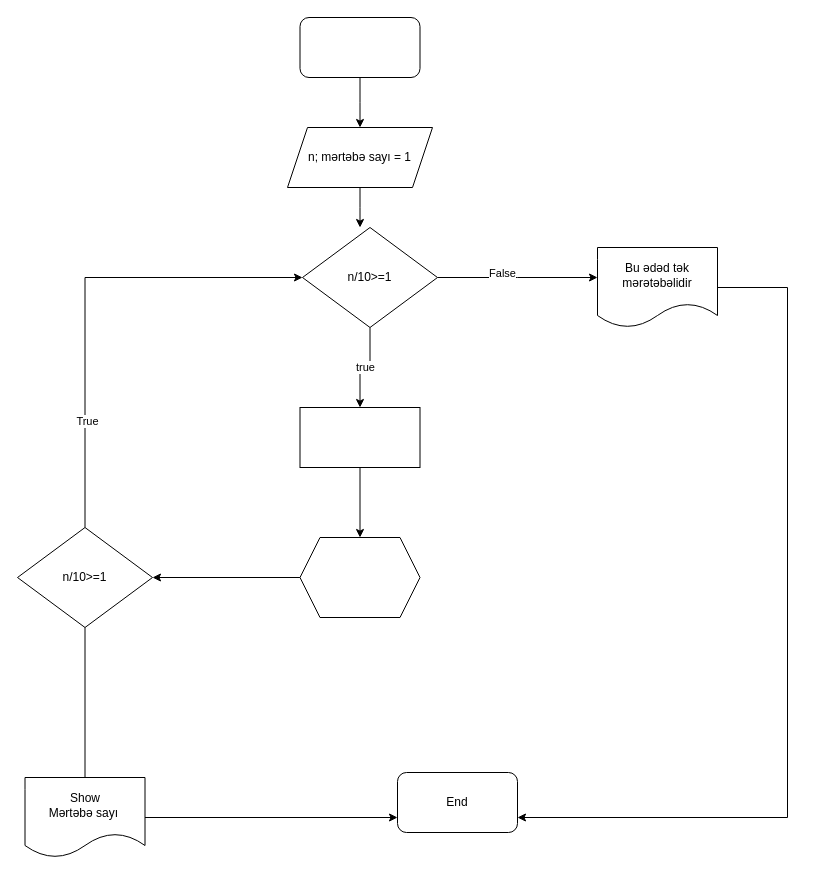
This 813x875 diagram has some shape labels left out. Here are the shapes that lost their labels. From the top down, the box of each, then its label:
(299, 16, 420, 78): Start
(299, 406, 420, 468): mərtəbə sayı++
(299, 536, 420, 618): n=n/10
